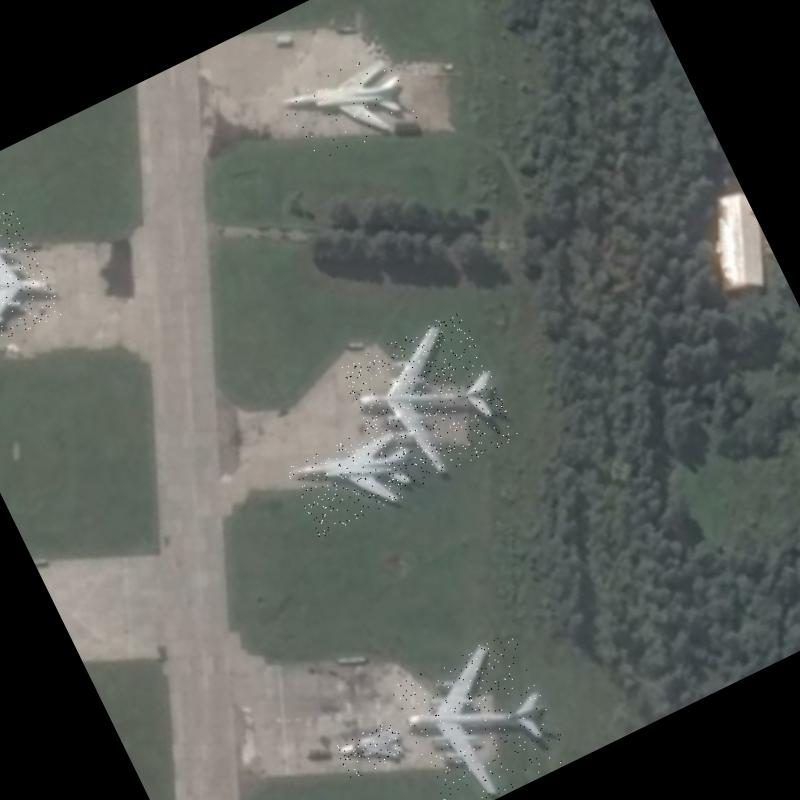A12: (286, 416, 426, 538), (278, 46, 418, 168)
A17: (337, 308, 521, 495), (386, 627, 573, 800), (0, 190, 64, 369)
A20: (333, 718, 408, 781)
